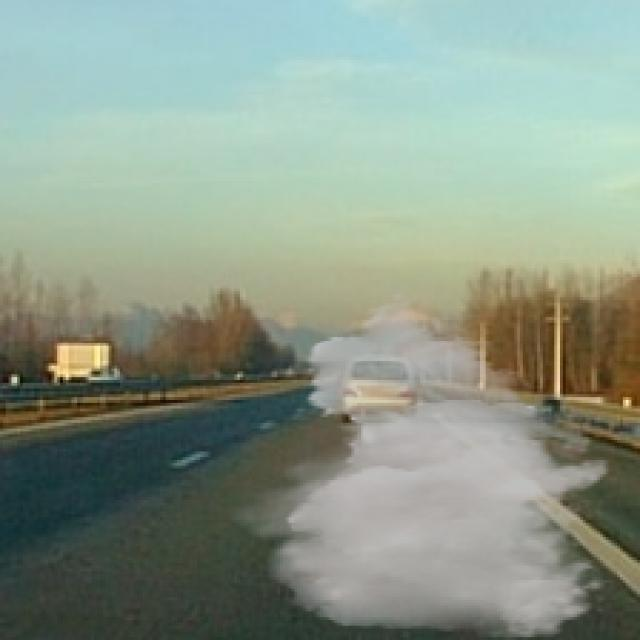smoke: (223, 292, 614, 637)
